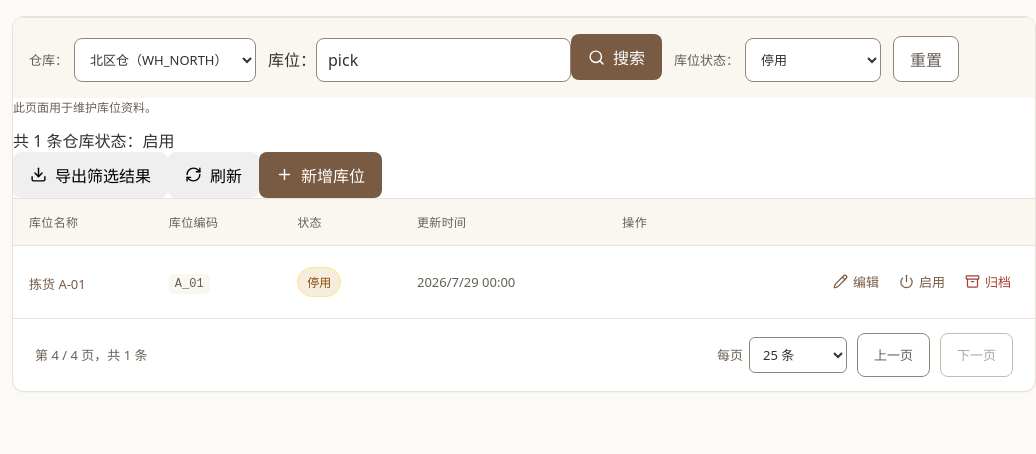
Scenario: WarehouseCenterPage › downloads the current filtered location result and announces success
Expected: the text "A_01" is shown, [169, 274, 210, 294]
Click the button "导出筛选结果".
click(90, 174)  # box [13, 152, 168, 198]
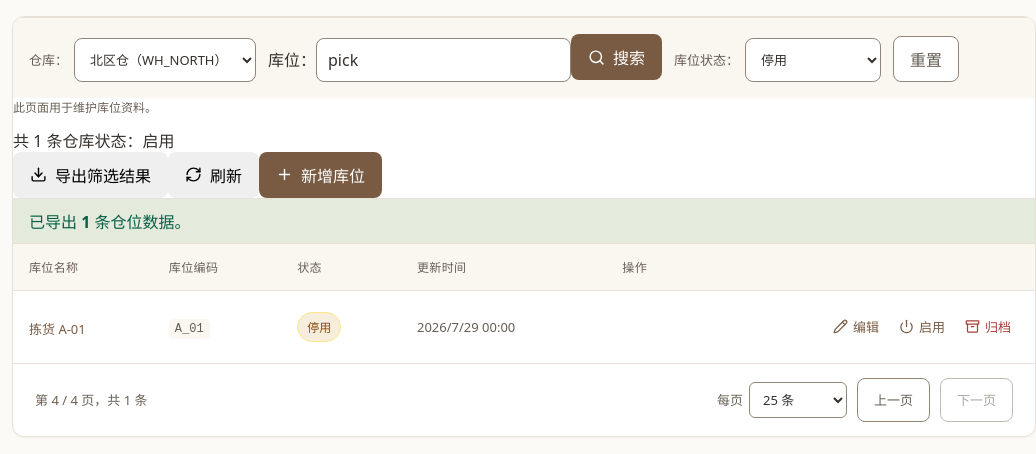
Result: the text "已导出 1 条仓位数据。" is shown at [13, 198, 1035, 242]
